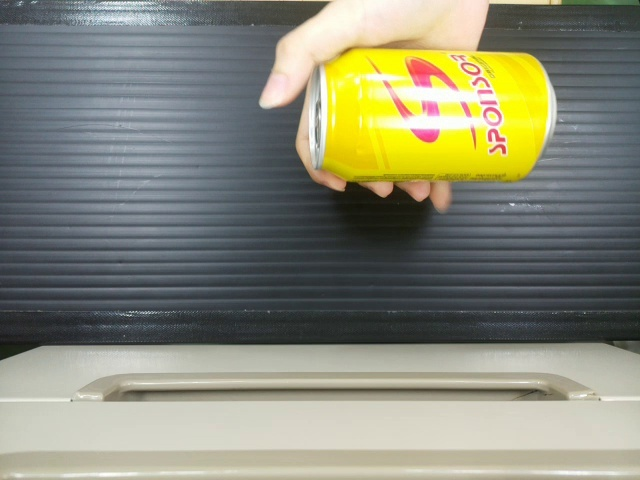can: (307, 46, 555, 178)
